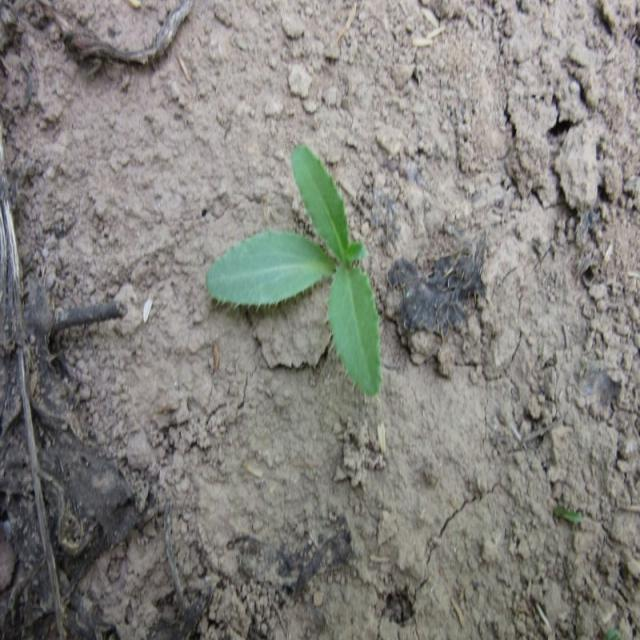field_thistle: (182, 117, 404, 432)
